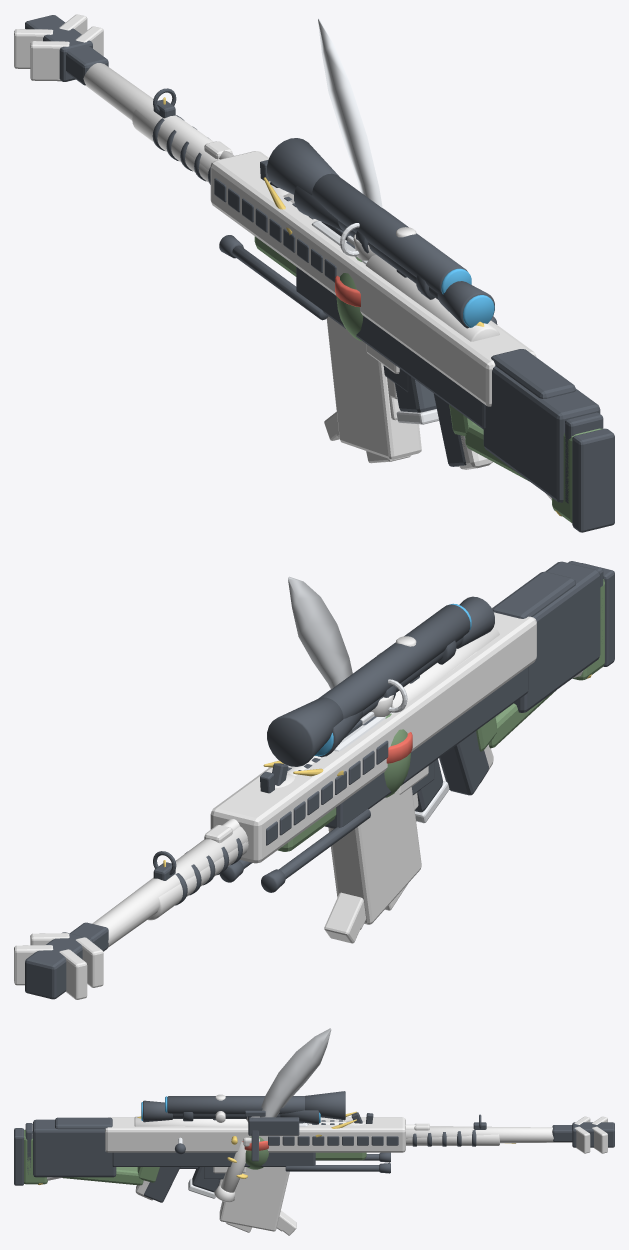
The model's file is weapons_arsenal.glb.
3 renders of one model, top to bottom at view 1: azimuth 30°, elevation 25°; view 2: azimuth 150°, elevation 25°; view 3: azimuth 270°, elevation 25°, orthographic. The views are drawn at different scales.
Parts seen in each view (by area): view 1: Weapon_Barrett, Weapon_AWM, Weapon_AK47, Weapon_Kukri, Weapon_M4A1S, Weapon_Deagle, Weapon_Grenade; view 2: Weapon_Barrett, Weapon_AWM, Weapon_AK47, Weapon_Kukri, Weapon_M4A1S, Weapon_Grenade, Weapon_Deagle; view 3: Weapon_Barrett, Weapon_AWM, Weapon_Kukri, Weapon_AK47, Weapon_M4A1S, Weapon_Grenade, Weapon_Deagle.
Boxes of the visible parts, x1=… form: Weapon_Barrett: x1=14, y1=14, x2=600, y2=502; Weapon_AWM: x1=66, y1=46, x2=614, y2=532; Weapon_AK47: x1=153, y1=88, x2=561, y2=516; Weapon_Kukri: x1=318, y1=18, x2=382, y2=207; Weapon_M4A1S: x1=132, y1=109, x2=603, y2=503; Weapon_Deagle: x1=311, y1=220, x2=438, y2=424; Weapon_Grenade: x1=335, y1=223, x2=375, y2=341; Weapon_Barrett: x1=14, y1=561, x2=600, y2=999; Weapon_AWM: x1=70, y1=563, x2=614, y2=951; Weapon_AK47: x1=153, y1=626, x2=591, y2=943; Weapon_Kukri: x1=288, y1=576, x2=352, y2=689; Weapon_M4A1S: x1=147, y1=561, x2=603, y2=920; Weapon_Grenade: x1=370, y1=679, x2=412, y2=797; Weapon_Deagle: x1=333, y1=712, x2=449, y2=823; Weapon_Barrett: x1=33, y1=1091, x2=614, y2=1231; Weapon_AWM: x1=14, y1=1094, x2=572, y2=1185; Weapon_Kukri: x1=214, y1=1028, x2=331, y2=1202; Weapon_AK47: x1=38, y1=1111, x2=515, y2=1235; Weapon_M4A1S: x1=25, y1=1112, x2=499, y2=1232; Weapon_Grenade: x1=242, y1=1110, x2=268, y2=1169; Weapon_Deagle: x1=188, y1=1122, x2=307, y2=1198.
Size of the model in its own units: 0.1185 by 0.4975 by 1.3.
